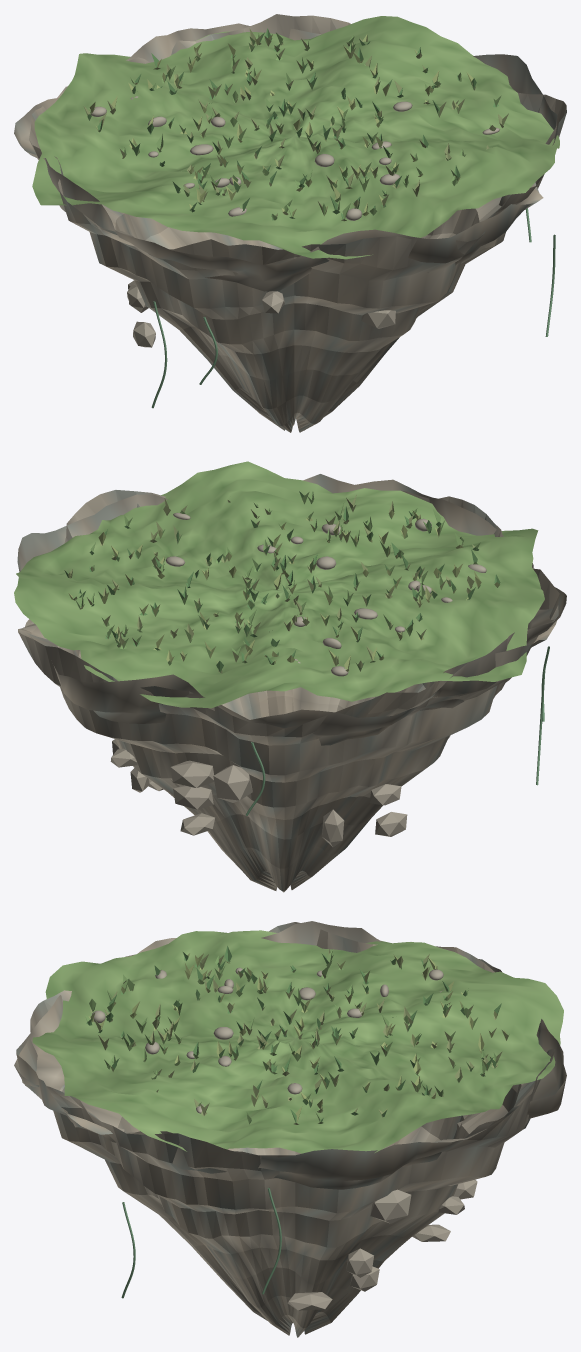
The model's file is veyra_floating_island_04.glb.
The picture shows the model from 3 angles, top to bottom: view 1: azimuth 30°, elevation 25°; view 2: azimuth 150°, elevation 25°; view 3: azimuth 270°, elevation 25°; orthographic projection.
Parts seen in each view (by area): view 1: Veyra Floating Island 04; view 2: Veyra Floating Island 04; view 3: Veyra Floating Island 04.
Boxes of the visible parts, box(x1,y1,x2,y2) form: Veyra Floating Island 04: box(14, 14, 566, 432); Veyra Floating Island 04: box(14, 461, 566, 892); Veyra Floating Island 04: box(14, 921, 566, 1337).
Bounding box in the file's own units: 2.14 × 1.32 × 2.11.
